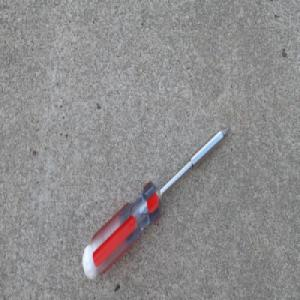Screwdriver: (81, 124, 231, 281)
